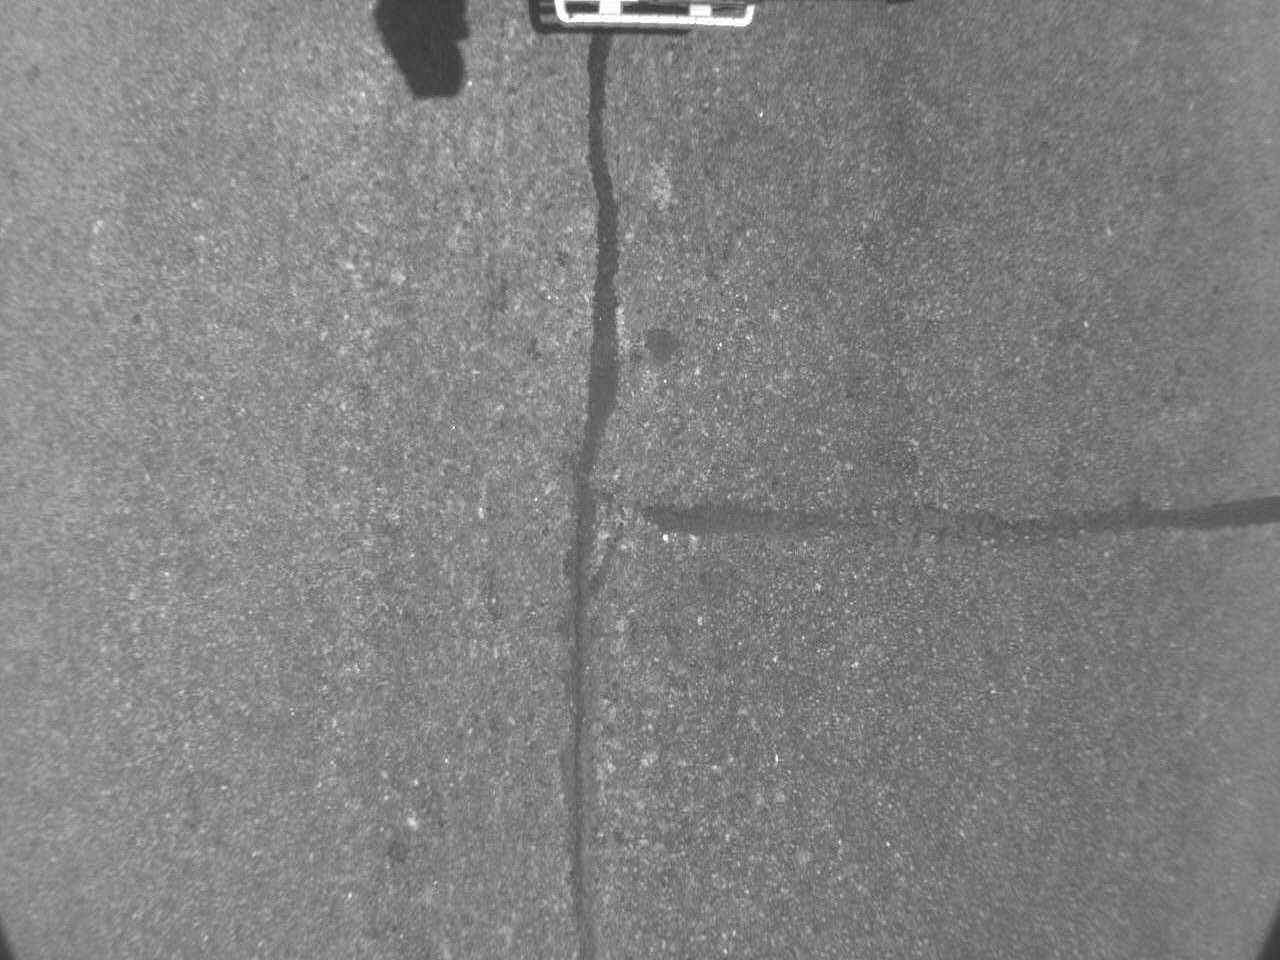sealed: (556, 30, 629, 952), (628, 484, 1274, 554)
